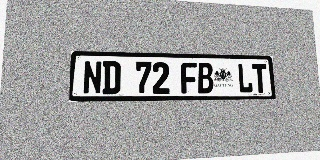2: (152, 62, 169, 94)
7: (135, 62, 152, 94)
B: (197, 63, 214, 93)
D: (102, 61, 121, 94)
F: (181, 62, 197, 94)
L: (237, 63, 253, 93)
N: (83, 61, 102, 94)
T: (252, 64, 268, 93)
